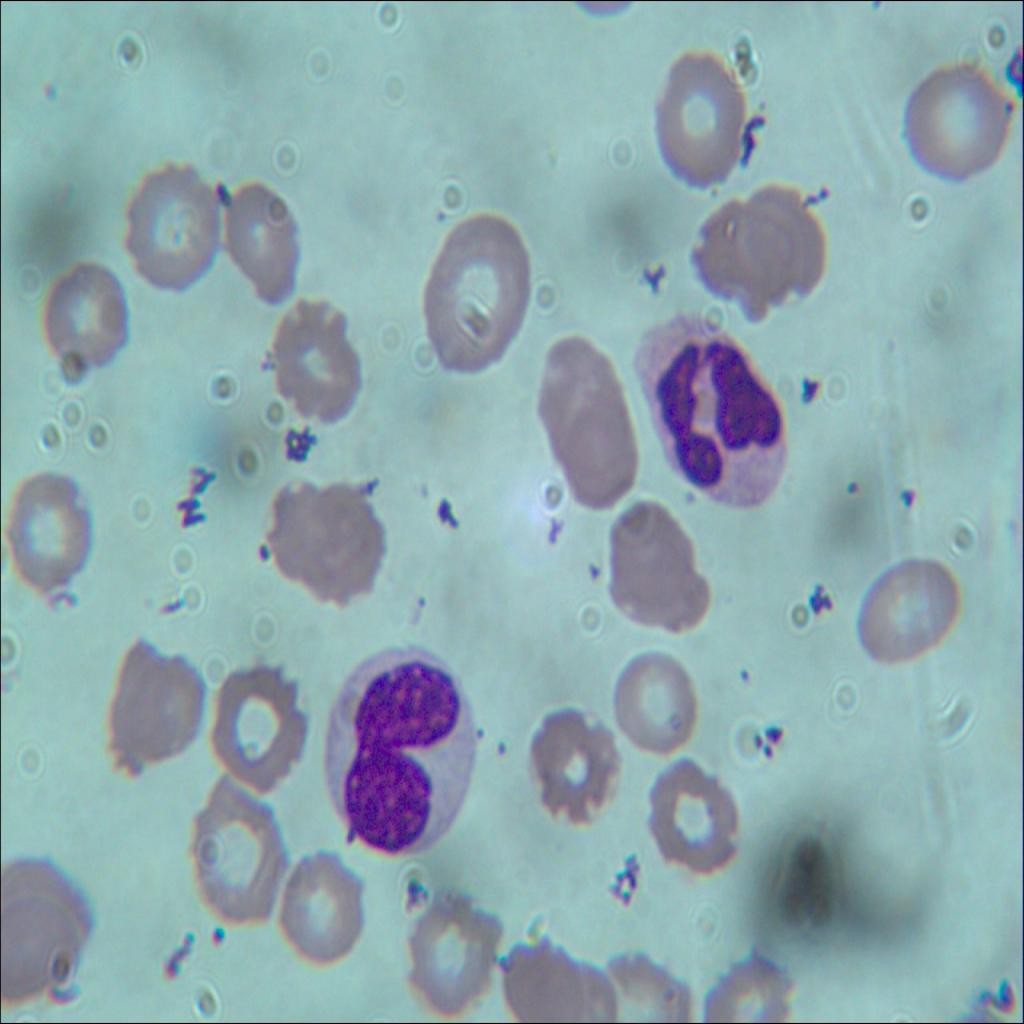Eosinofil: (321, 642, 473, 861)
Eritrosit: (410, 197, 534, 385), (266, 465, 390, 619), (18, 248, 142, 394), (538, 335, 644, 504), (598, 495, 716, 639), (91, 634, 203, 780), (895, 52, 1015, 188), (184, 770, 289, 925), (1, 458, 111, 602), (653, 45, 748, 200), (211, 652, 313, 794), (735, 175, 831, 315), (120, 158, 218, 295), (276, 288, 368, 425), (858, 552, 958, 678), (273, 840, 366, 968), (524, 708, 623, 826), (648, 758, 743, 872), (395, 895, 489, 1010), (215, 177, 296, 304), (691, 198, 782, 308), (610, 642, 690, 752), (0, 888, 79, 998), (506, 921, 578, 1022), (593, 944, 683, 1023), (706, 947, 788, 1023)
Neutrofil: (634, 302, 788, 520)
Platelet: (892, 465, 926, 518), (581, 554, 609, 600), (736, 655, 762, 704), (204, 918, 233, 954), (841, 470, 868, 508), (492, 735, 514, 757), (758, 744, 775, 771), (764, 719, 783, 741), (748, 724, 766, 745)
